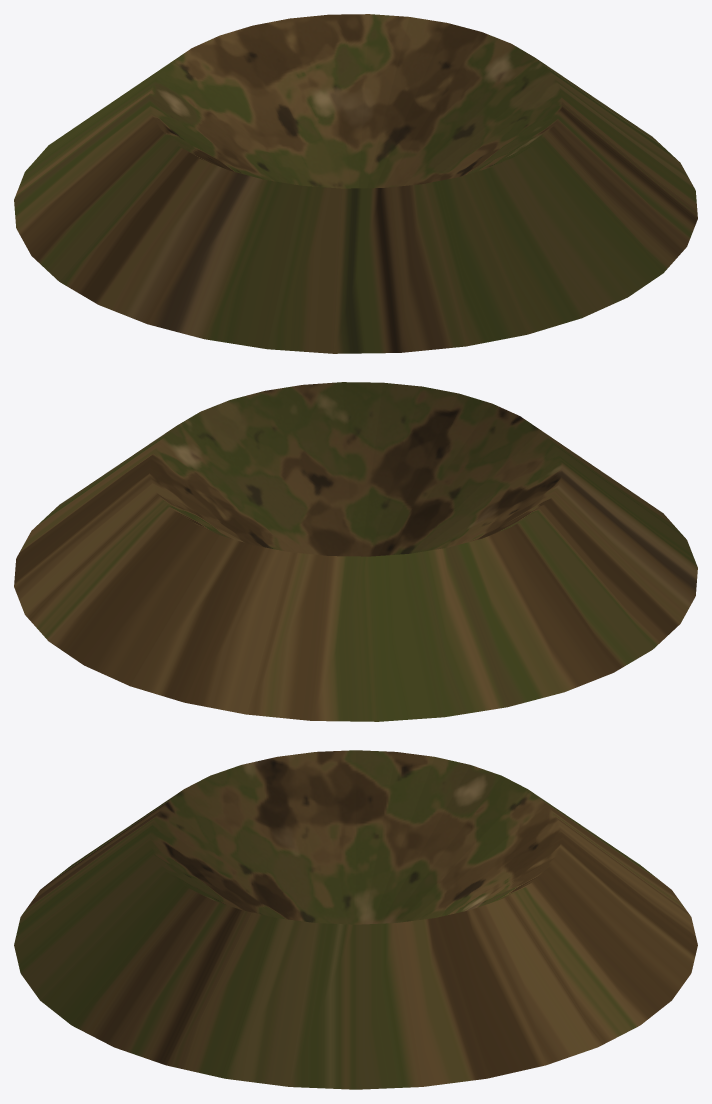
File: M sharp.glb
The picture shows the model from 3 angles, top to bottom: view 1: azimuth 30°, elevation 25°; view 2: azimuth 150°, elevation 25°; view 3: azimuth 270°, elevation 25°; orthographic projection.
Parts seen in each view (by area): view 1: M sharp; view 2: M sharp; view 3: M sharp.
Boxes of the visible parts, box(x1,y1,x2,y2) form: M sharp: box(14, 14, 697, 353); M sharp: box(14, 382, 697, 721); M sharp: box(14, 750, 697, 1089).
Size of the model in its own units: 0.4316 by 0.0909 by 0.4316.
1 material, 1 textured.
